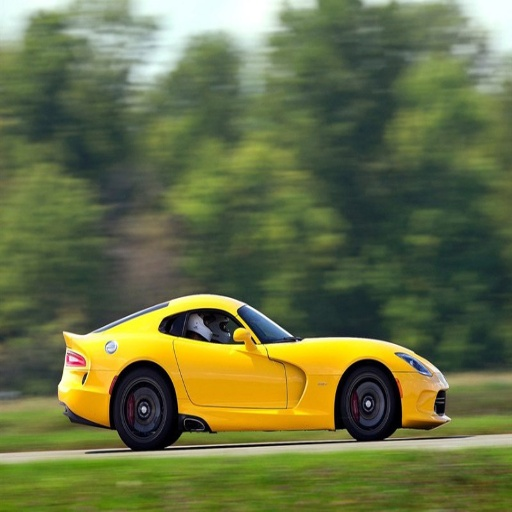front_bumper: (402, 366, 437, 426)
front_right_door: (216, 309, 306, 406)
